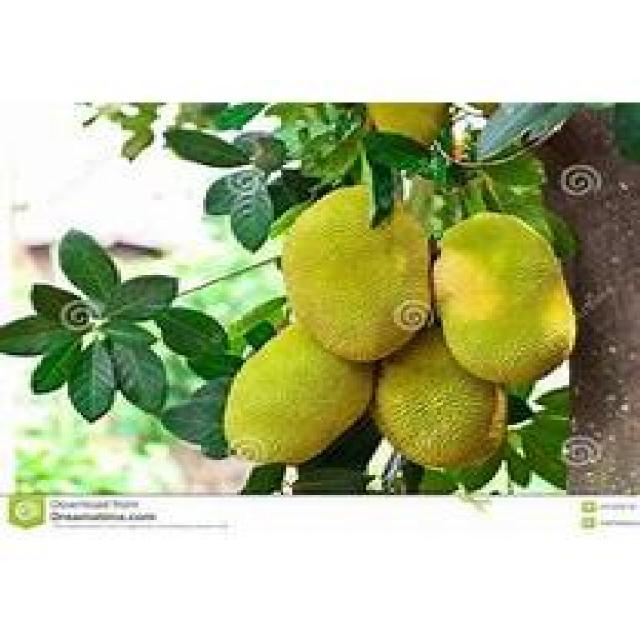Fruit: (252, 173, 446, 475), (418, 198, 588, 400), (209, 298, 388, 482)
